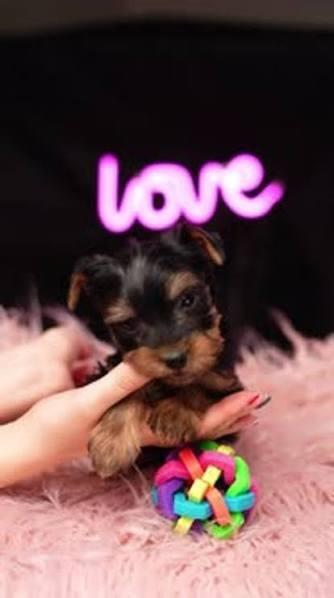puppy-dog: (65, 226, 244, 479)
